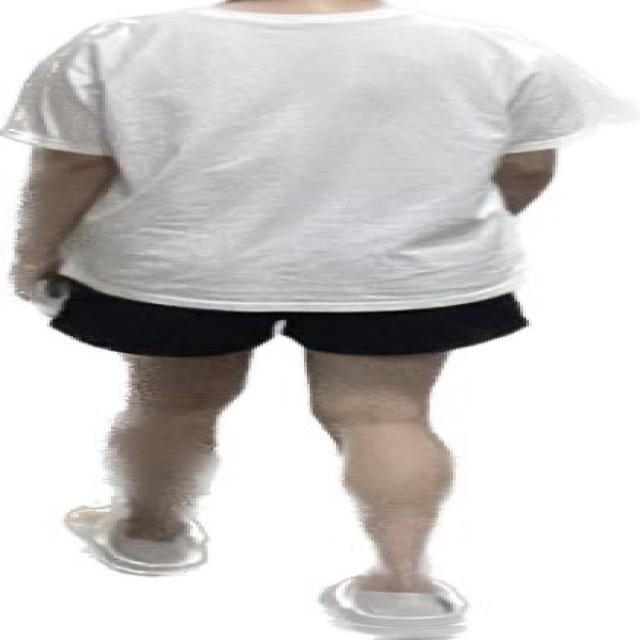shortpants: (42, 278, 520, 361)
shortsleeve: (11, 3, 590, 314)
